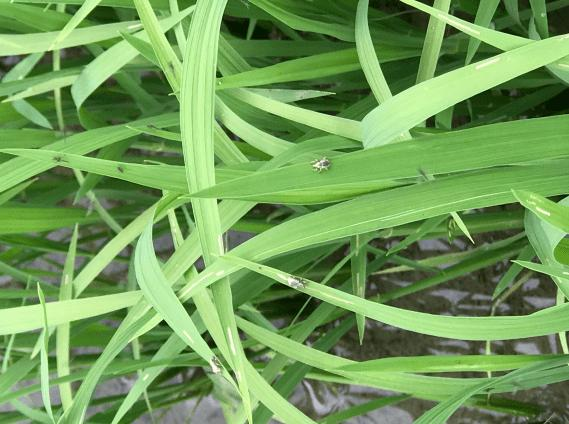Curculionidae: (310, 156, 331, 173), (287, 276, 307, 290), (208, 357, 223, 374)
